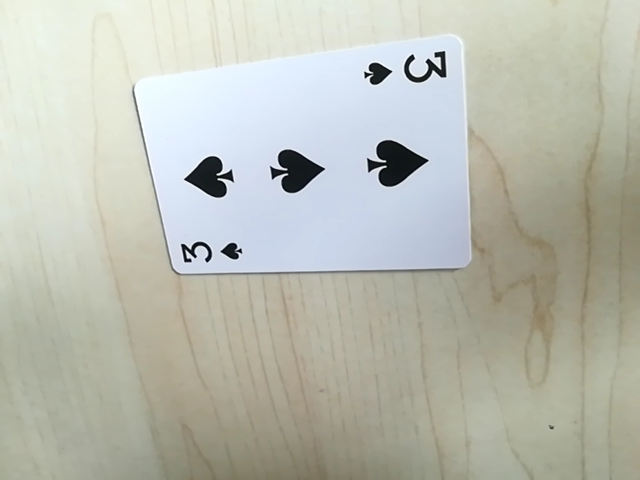ht 3: (359, 46, 453, 92), (174, 236, 248, 270)
